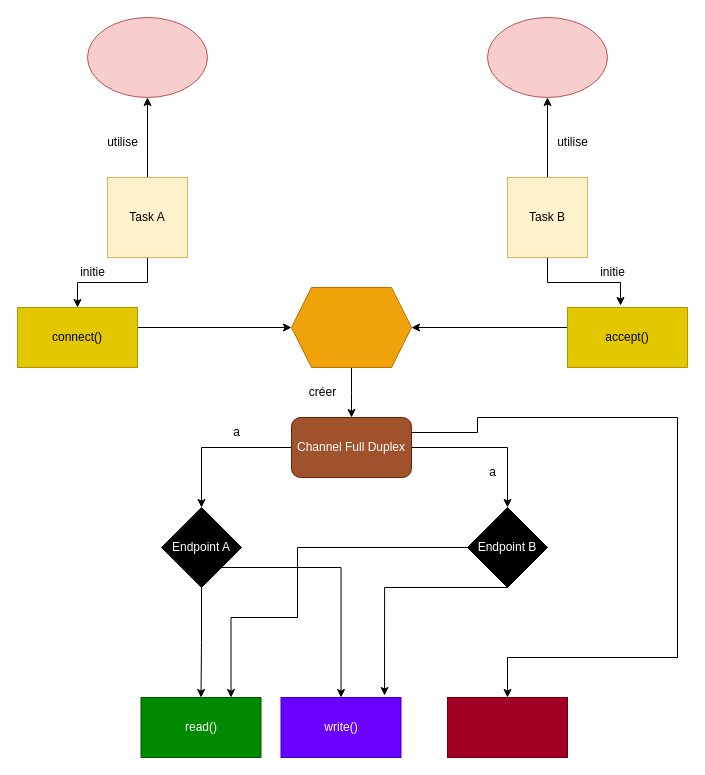
This 705x775 diagram has some shape labels left out. Here are the shapes that lost their labels. From the top down, the centre of each, then its label:
At pixel 147 57: "Broker A".
At pixel 547 57: "Broker B".
At pixel 351 327: "Rendez-vous".
At pixel 507 727: "disconnect()".
